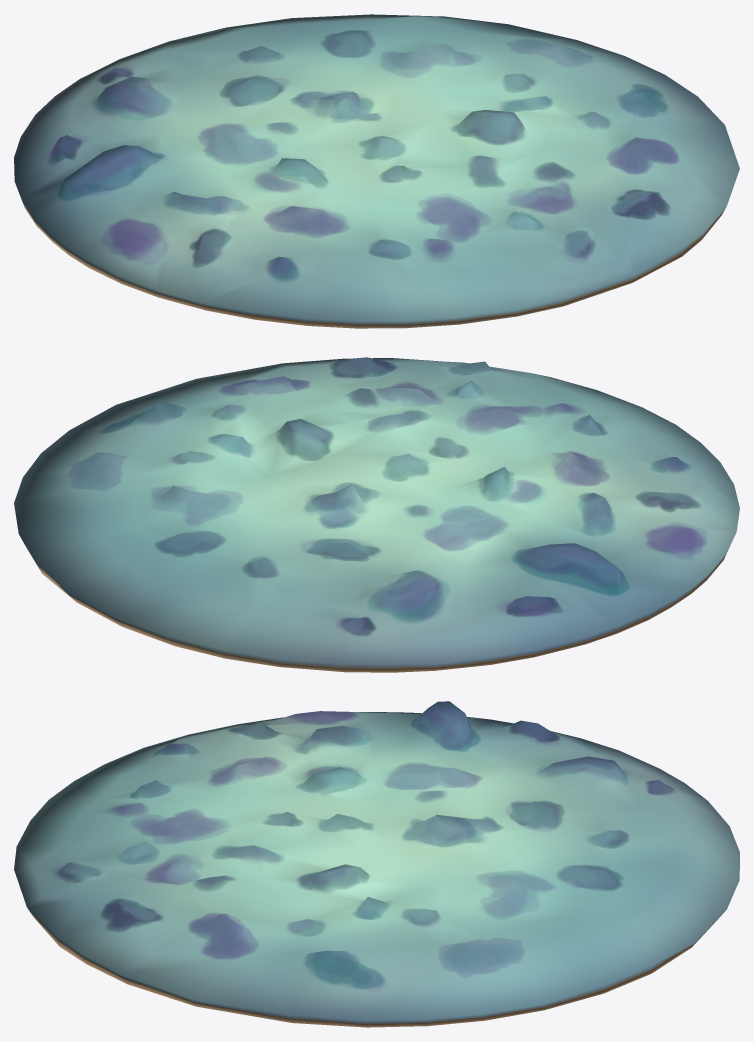
The picture shows the model from 3 angles, top to bottom: view 1: azimuth 30°, elevation 25°; view 2: azimuth 150°, elevation 25°; view 3: azimuth 270°, elevation 25°; orthographic projection.
Visible parts, largest first — view 1: ground; view 2: ground; view 3: ground.
Part boxes in pixels (box(x1,y1,x2,y2)): ground: box(14, 14, 739, 328); ground: box(14, 357, 739, 672); ground: box(14, 701, 739, 1027).
Size of the model in its own units: 954 by 90.85 by 950.
Materials: 1 (1 with a texture image).
